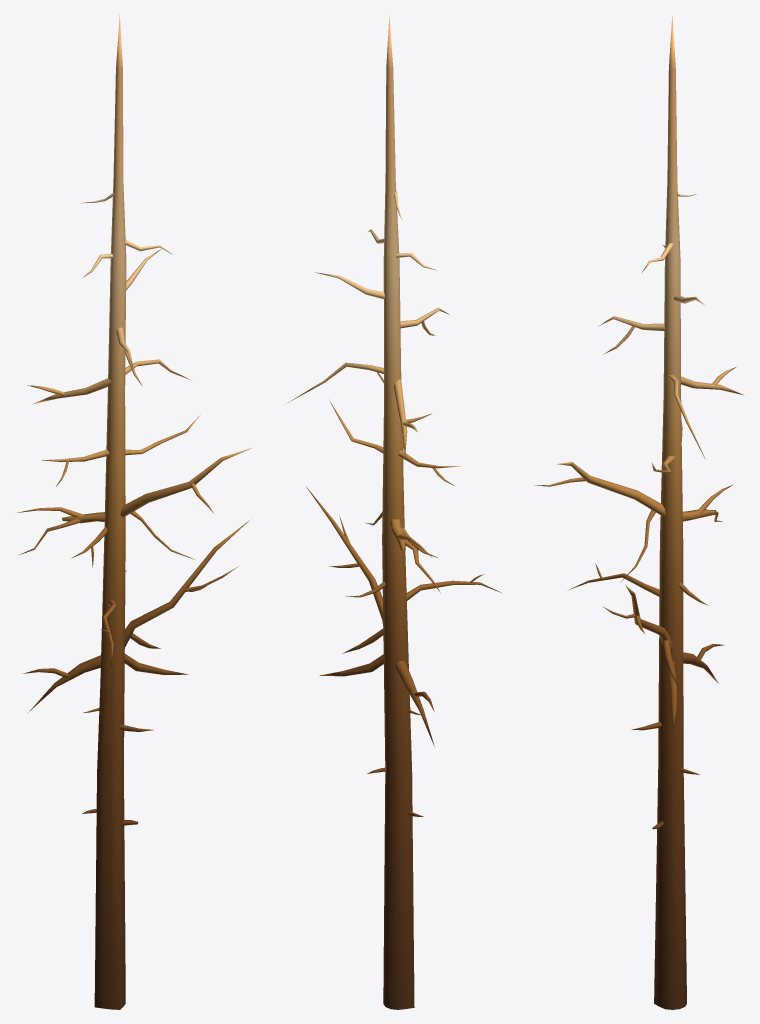
File: Tree_1.fbx
3 renders of one model, left to right at view 1: azimuth 30°, elevation 25°; view 2: azimuth 150°, elevation 25°; view 3: azimuth 270°, elevation 25°, orthographic.
Visible parts, largest first — view 1: Tree_1; view 2: Tree_1; view 3: Tree_1.
Boxes of the visible parts, x1=… form: Tree_1: x1=17, y1=14, x2=251, y2=1009; Tree_1: x1=285, y1=15, x2=501, y2=1009; Tree_1: x1=534, y1=16, x2=743, y2=1009.
Size of the model in its own units: 104 by 526 by 102.
